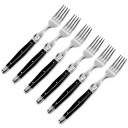Fork: (3, 4, 128, 127)
